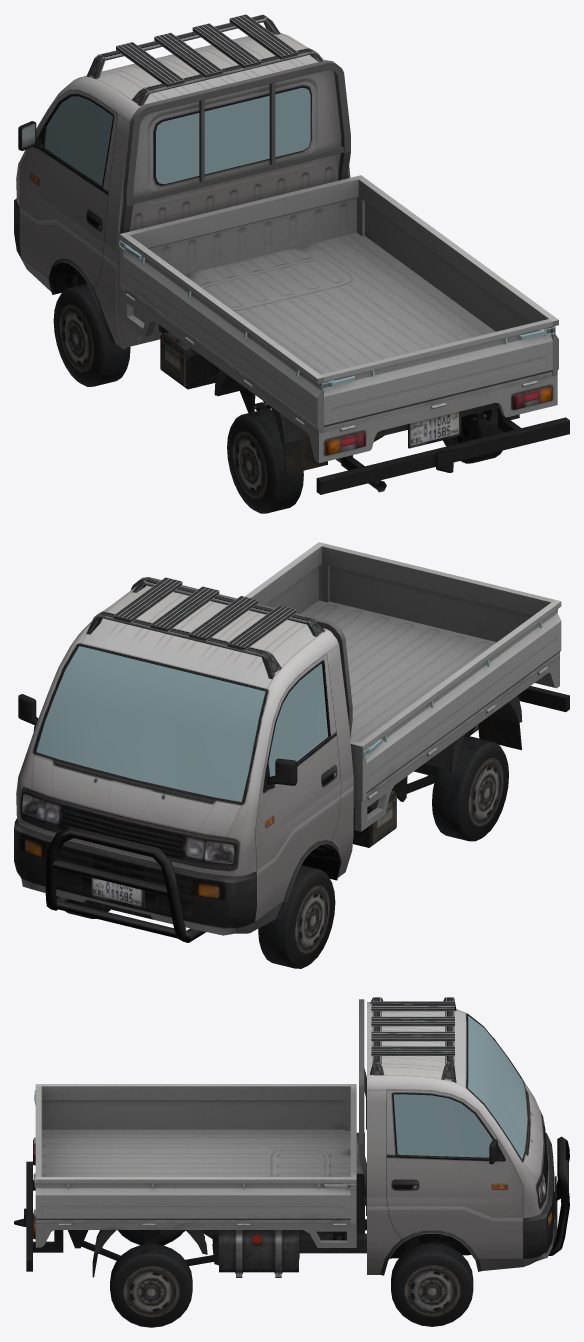
File: Truck_Mini_Cargo_01.fbx
3 renders of one model, top to bottom at view 1: azimuth 30°, elevation 25°; view 2: azimuth 150°, elevation 25°; view 3: azimuth 270°, elevation 25°, orthographic. The views are drawn at different scales.
Parts seen in each view (by area): view 1: mesh_GenericMiniTruck_chassis_LOD0, mesh_GenericMiniTruck_door_L_LOD0, mesh_GenericMiniTruck_crate_door_B_LOD0, mesh_GenericMiniTruck_crate_door_L_LOD0, mesh_GenericMiniTruck_crate_door_R_LOD0, addon_rack_roof_LOD0, mesh_GenericMiniTruck_wheel_L_back_LOD0, mesh_GenericMiniTruck_wheel_L_front_LOD0, mesh_GenericMiniTruck_wheel_R_back_LOD0; view 2: mesh_GenericMiniTruck_chassis_LOD0, mesh_GenericMiniTruck_door_L_LOD0, mesh_GenericMiniTruck_crate_door_B_LOD0, mesh_GenericMiniTruck_crate_door_L_LOD0, addon_rack_roof_LOD0, mesh_GenericMiniTruck_wheel_L_back_LOD0, addon_bullbar_bottom_LOD0, mesh_GenericMiniTruck_wheel_L_front_LOD0, mesh_GenericMiniTruck_crate_door_R_LOD0, mesh_headlights; view 3: mesh_GenericMiniTruck_chassis_LOD0, mesh_GenericMiniTruck_door_R_LOD0, mesh_GenericMiniTruck_crate_door_R_LOD0, mesh_GenericMiniTruck_crate_door_L_LOD0, mesh_GenericMiniTruck_wheel_R_back_LOD0, mesh_GenericMiniTruck_wheel_R_front_LOD0, addon_rack_roof_LOD0, addon_bullbar_bottom_LOD0, mesh_GenericMiniTruck_crate_door_B_LOD0.
Part boxes in pixels (bbox=[...]): mesh_GenericMiniTruck_chassis_LOD0: bbox=[14, 32, 569, 494]; mesh_GenericMiniTruck_door_L_LOD0: bbox=[18, 90, 117, 289]; mesh_GenericMiniTruck_crate_door_B_LOD0: bbox=[320, 319, 555, 430]; mesh_GenericMiniTruck_crate_door_L_LOD0: bbox=[119, 235, 323, 432]; mesh_GenericMiniTruck_crate_door_R_LOD0: bbox=[358, 178, 558, 375]; addon_rack_roof_LOD0: bbox=[86, 14, 323, 105]; mesh_GenericMiniTruck_wheel_L_back_LOD0: bbox=[227, 409, 303, 513]; mesh_GenericMiniTruck_wheel_L_front_LOD0: bbox=[53, 283, 130, 386]; mesh_GenericMiniTruck_wheel_R_back_LOD0: bbox=[443, 413, 503, 463]; mesh_GenericMiniTruck_chassis_LOD0: bbox=[14, 577, 569, 935]; mesh_GenericMiniTruck_door_L_LOD0: bbox=[255, 654, 341, 921]; mesh_GenericMiniTruck_crate_door_B_LOD0: bbox=[321, 543, 557, 642]; mesh_GenericMiniTruck_crate_door_L_LOD0: bbox=[360, 600, 561, 796]; addon_rack_roof_LOD0: bbox=[86, 577, 324, 679]; mesh_GenericMiniTruck_wheel_L_back_LOD0: bbox=[432, 736, 508, 841]; addon_bullbar_bottom_LOD0: bbox=[45, 827, 205, 942]; mesh_GenericMiniTruck_wheel_L_front_LOD0: bbox=[258, 865, 335, 968]; mesh_GenericMiniTruck_crate_door_R_LOD0: bbox=[245, 542, 324, 613]; mesh_headlights: bbox=[22, 794, 234, 863]; mesh_GenericMiniTruck_chassis_LOD0: bbox=[14, 999, 556, 1277]; mesh_GenericMiniTruck_door_R_LOD0: bbox=[386, 1090, 523, 1260]; mesh_GenericMiniTruck_crate_door_R_LOD0: bbox=[35, 1177, 355, 1222]; mesh_GenericMiniTruck_crate_door_L_LOD0: bbox=[35, 1084, 350, 1130]; mesh_GenericMiniTruck_wheel_R_back_LOD0: bbox=[110, 1243, 192, 1327]; mesh_GenericMiniTruck_wheel_R_front_LOD0: bbox=[391, 1243, 473, 1326]; addon_rack_roof_LOD0: bbox=[370, 997, 456, 1082]; addon_bullbar_bottom_LOD0: bbox=[548, 1136, 569, 1255]; mesh_GenericMiniTruck_crate_door_B_LOD0: bbox=[34, 1086, 41, 1187].
Bounding box in the file's own units: 188 × 205 × 404.
